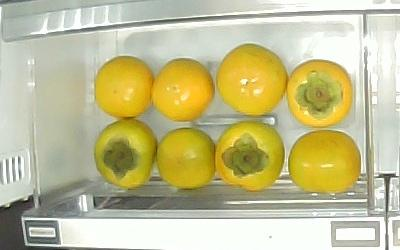persimmon: (215, 43, 289, 116), (214, 121, 285, 192), (289, 130, 361, 194), (286, 60, 353, 128), (94, 118, 157, 189), (151, 57, 214, 122), (93, 54, 155, 118), (156, 127, 216, 191)
